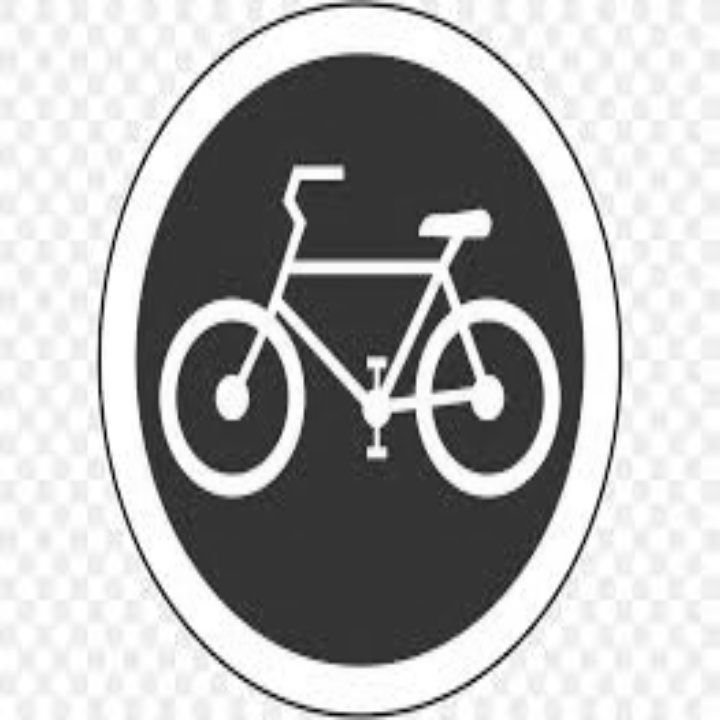bicycle: (127, 147, 593, 513)
